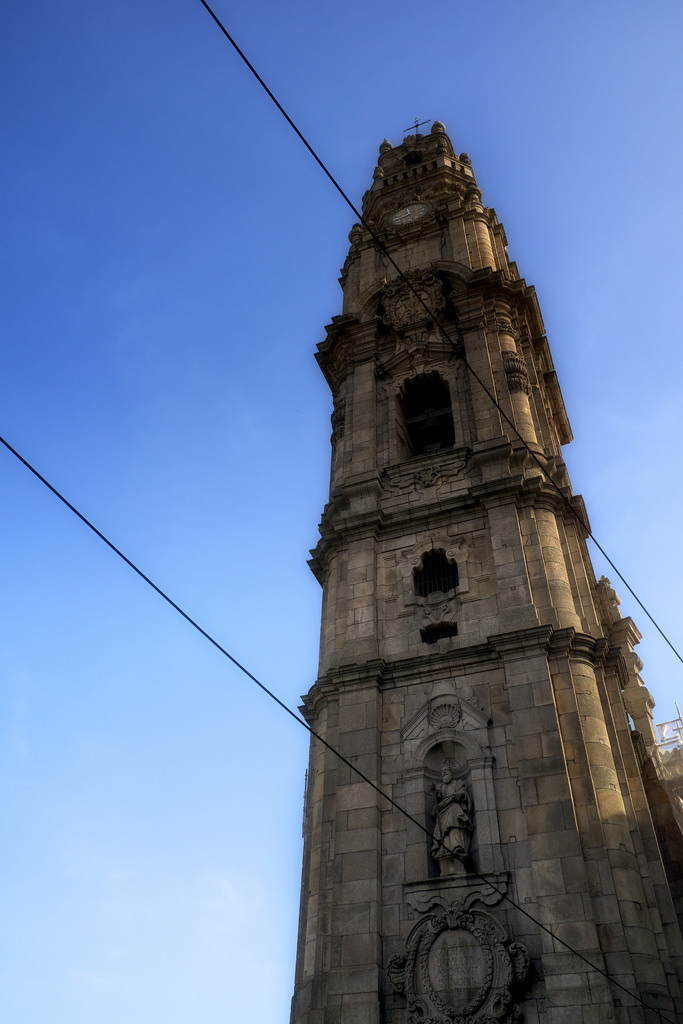clerigos: (291, 119, 682, 1023)
